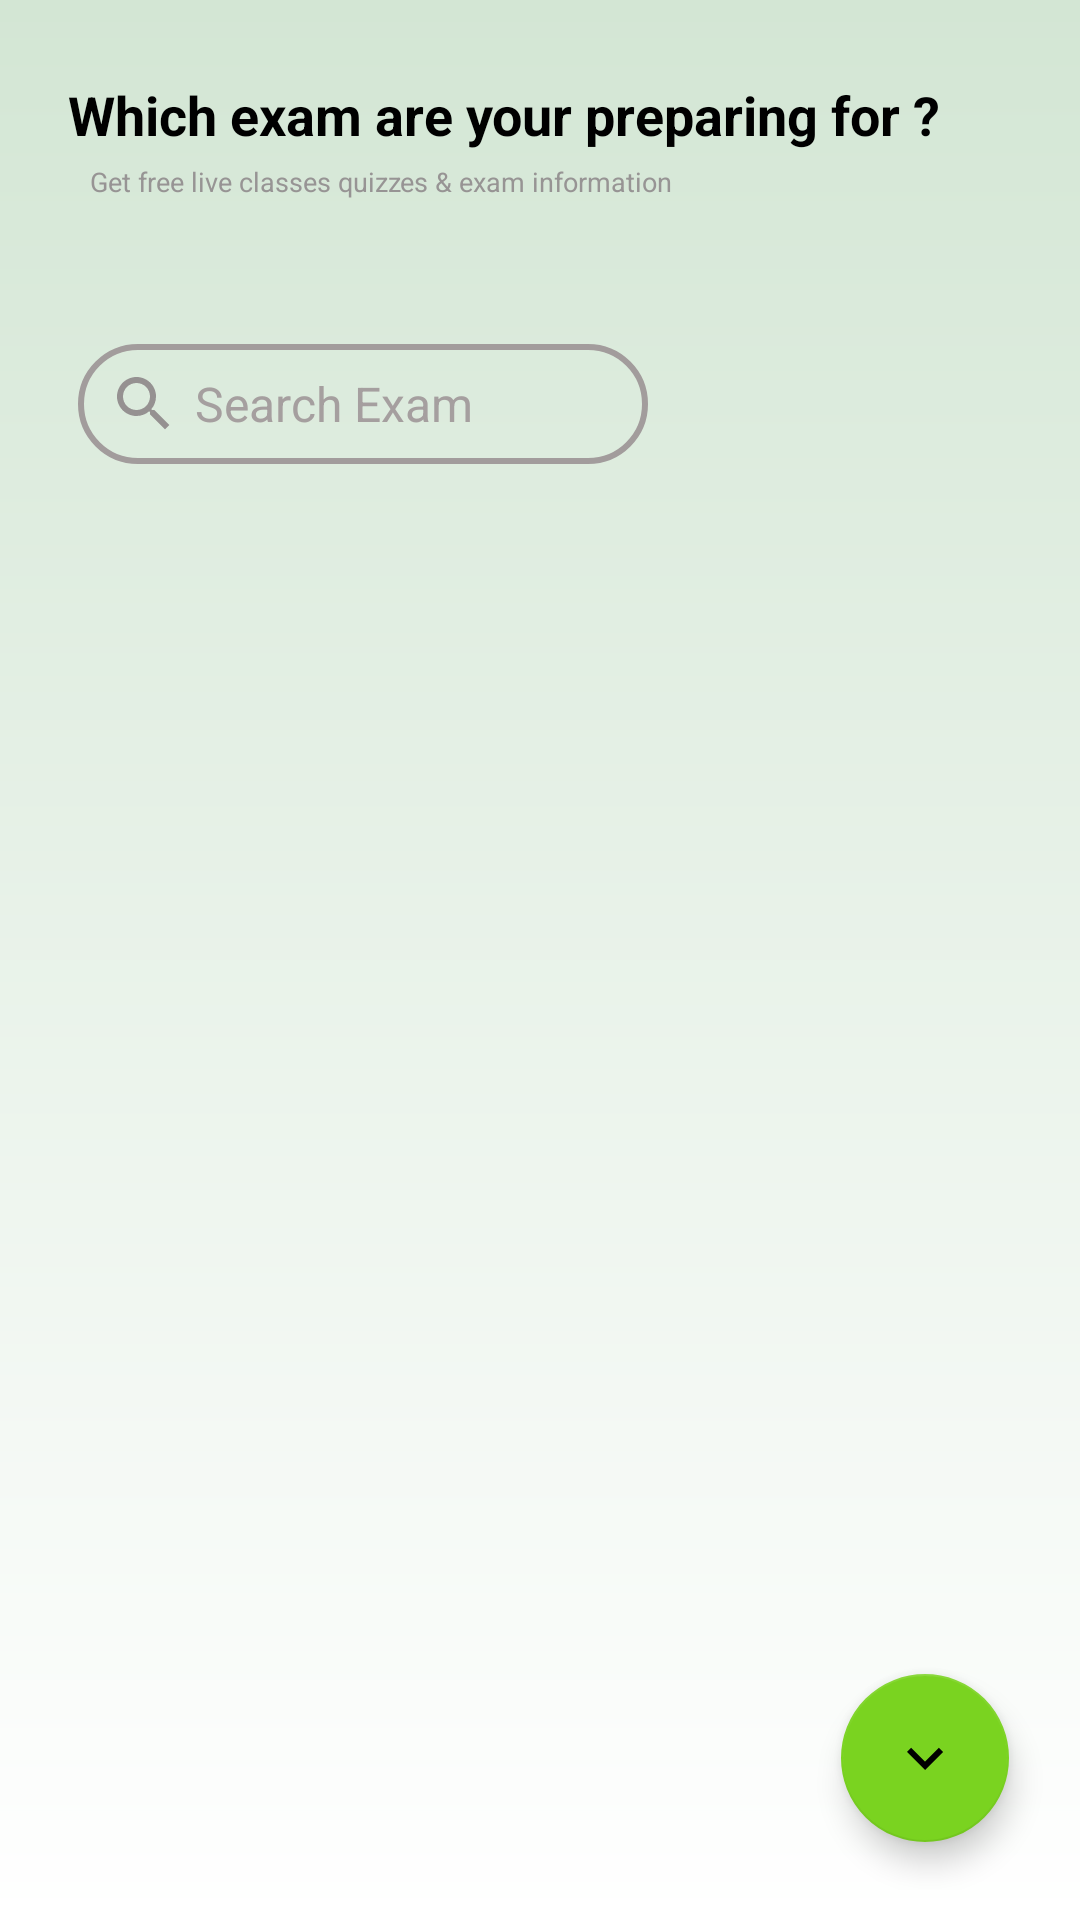

Point at icon controls on the screen. Image size 1080px×1920px, points as point (x, y).
down arrow: point (925, 1758)
